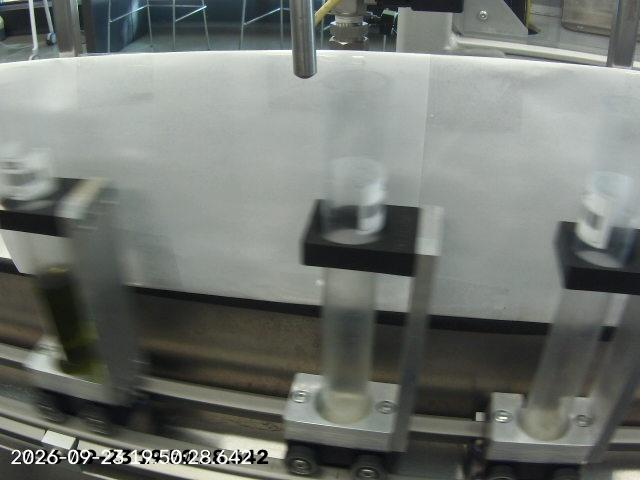vial: (300, 65, 422, 444), (511, 101, 640, 454)
